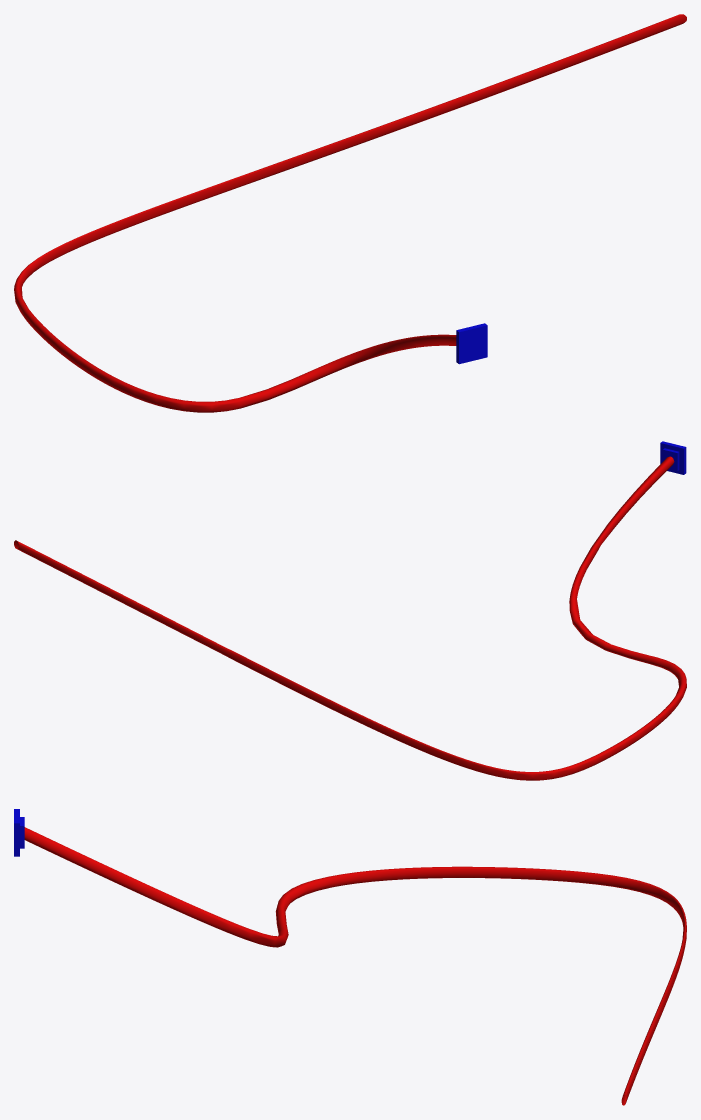
The model's file is Cable_mesh_001.fbx.
3 views of the same model, one above another, from view 1: azimuth 30°, elevation 25°; view 2: azimuth 150°, elevation 25°; view 3: azimuth 270°, elevation 25° (orthographic). The views are drawn at different scales.
Parts seen in each view (by area): view 1: polySurface1; view 2: polySurface1; view 3: polySurface1.
Part boxes in pixels (x1=…): polySurface1: x1=14, y1=14, x2=686, y2=412; polySurface1: x1=14, y1=441, x2=686, y2=780; polySurface1: x1=14, y1=809, x2=686, y2=1105.
Bounding box in the file's own units: 140 × 28.64 × 114.
